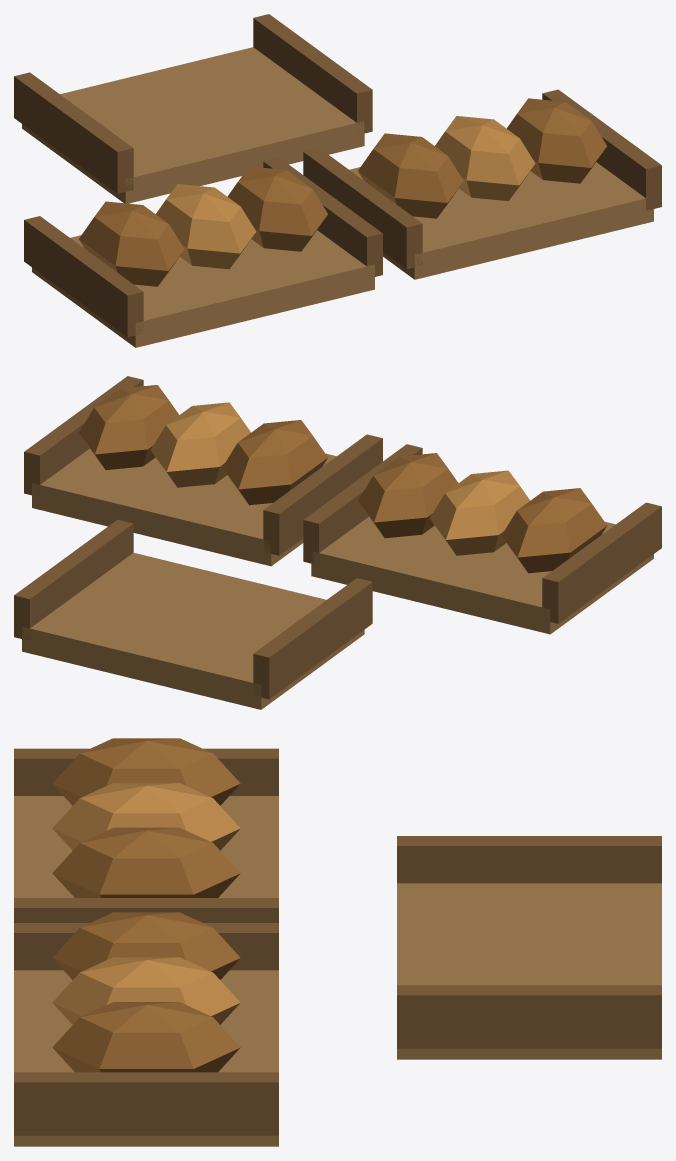
File: pile_bread_1.glb
3 views of the same model, one above another, from view 1: azimuth 30°, elevation 25°; view 2: azimuth 150°, elevation 25°; view 3: azimuth 270°, elevation 25° (orthographic). The views are drawn at different scales.
Parts seen in each view (by area): view 1: pile_bread_1; view 2: pile_bread_1; view 3: pile_bread_1.
Part boxes in pixels (left/top/right/bottom): pile_bread_1: left=14, top=14, right=661, bottom=347; pile_bread_1: left=14, top=376, right=661, bottom=709; pile_bread_1: left=14, top=738, right=661, bottom=1146.
Size of the model in its own units: 1.34 by 0.21 by 1.1.
